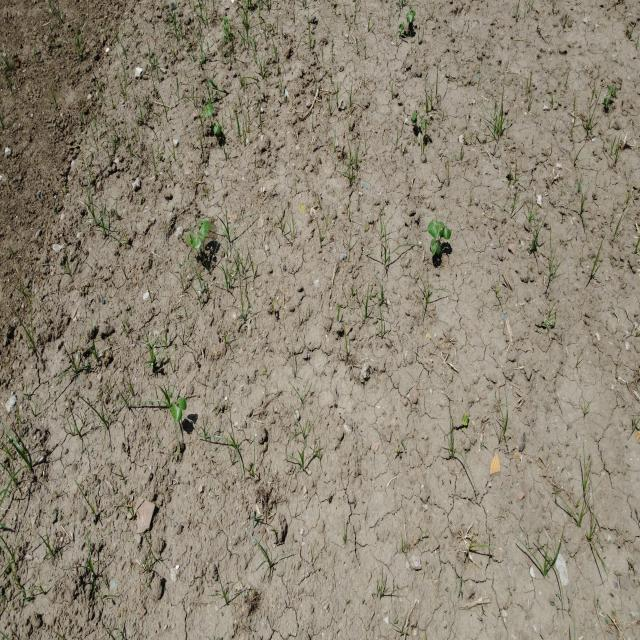seedling_s3: (171, 402, 182, 421), (428, 221, 439, 239), (174, 397, 187, 410), (201, 220, 210, 236), (439, 228, 451, 240), (192, 237, 201, 249), (433, 219, 444, 228), (206, 103, 213, 117), (194, 220, 204, 229), (431, 238, 436, 254), (214, 124, 221, 135), (197, 232, 205, 241), (406, 13, 413, 23), (436, 241, 441, 255), (202, 103, 206, 120), (186, 234, 191, 246), (409, 8, 416, 16), (412, 110, 417, 120), (400, 21, 405, 30), (422, 119, 426, 130), (408, 11, 414, 18), (225, 22, 229, 32), (188, 229, 195, 234), (222, 35, 227, 40), (224, 16, 228, 22), (223, 18, 226, 25)
